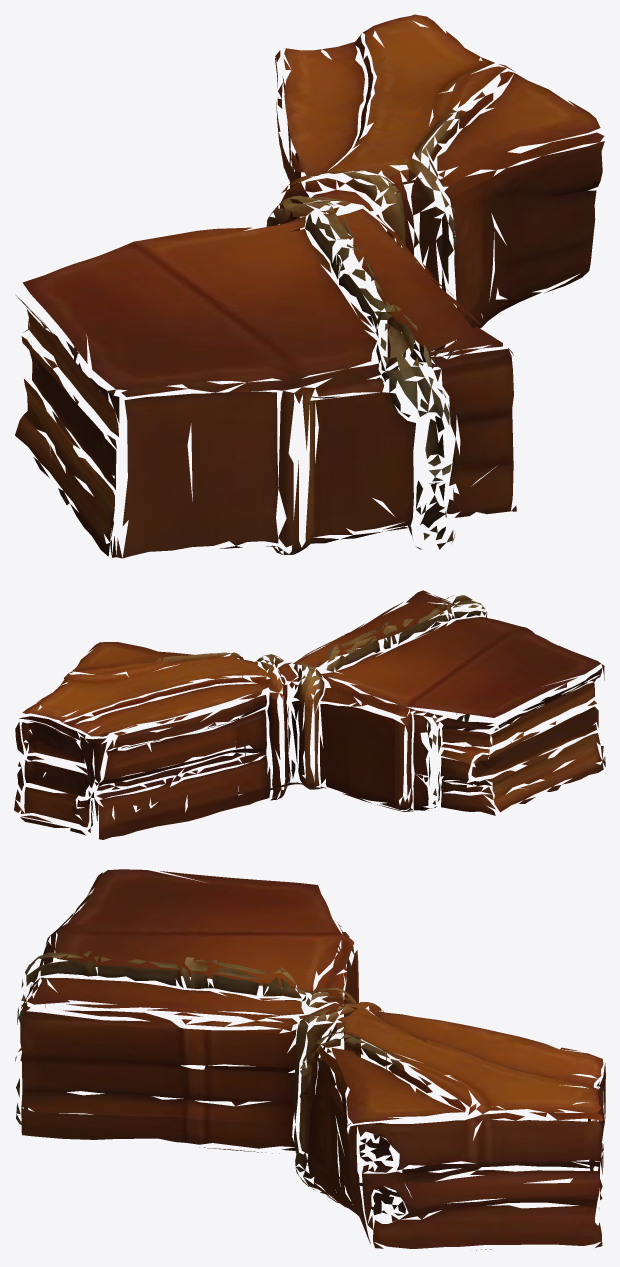
File: books.glb
3 renders of one model, top to bottom at view 1: azimuth 30°, elevation 25°; view 2: azimuth 150°, elevation 25°; view 3: azimuth 270°, elevation 25°, orthographic. The views are drawn at different scales.
Visible parts, largest first — view 1: world.001; view 2: world.001; view 3: world.001.
Part boxes in pixels (x1,y1,x2,y2): world.001: (15, 14, 604, 558); world.001: (14, 590, 605, 839); world.001: (15, 869, 605, 1250).
Bounding box in the file's own units: 0.9994 × 0.3342 × 0.9959.
Materials: 1 (1 with a texture image).
